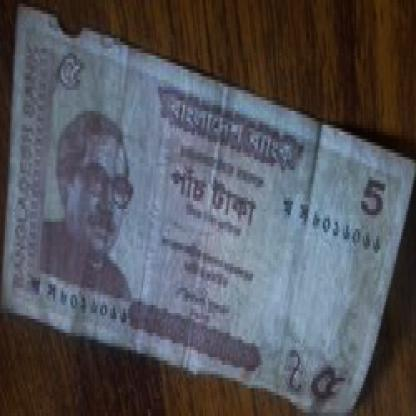Five Taka: (45, 38, 86, 115), (305, 340, 346, 412), (356, 166, 389, 226)
